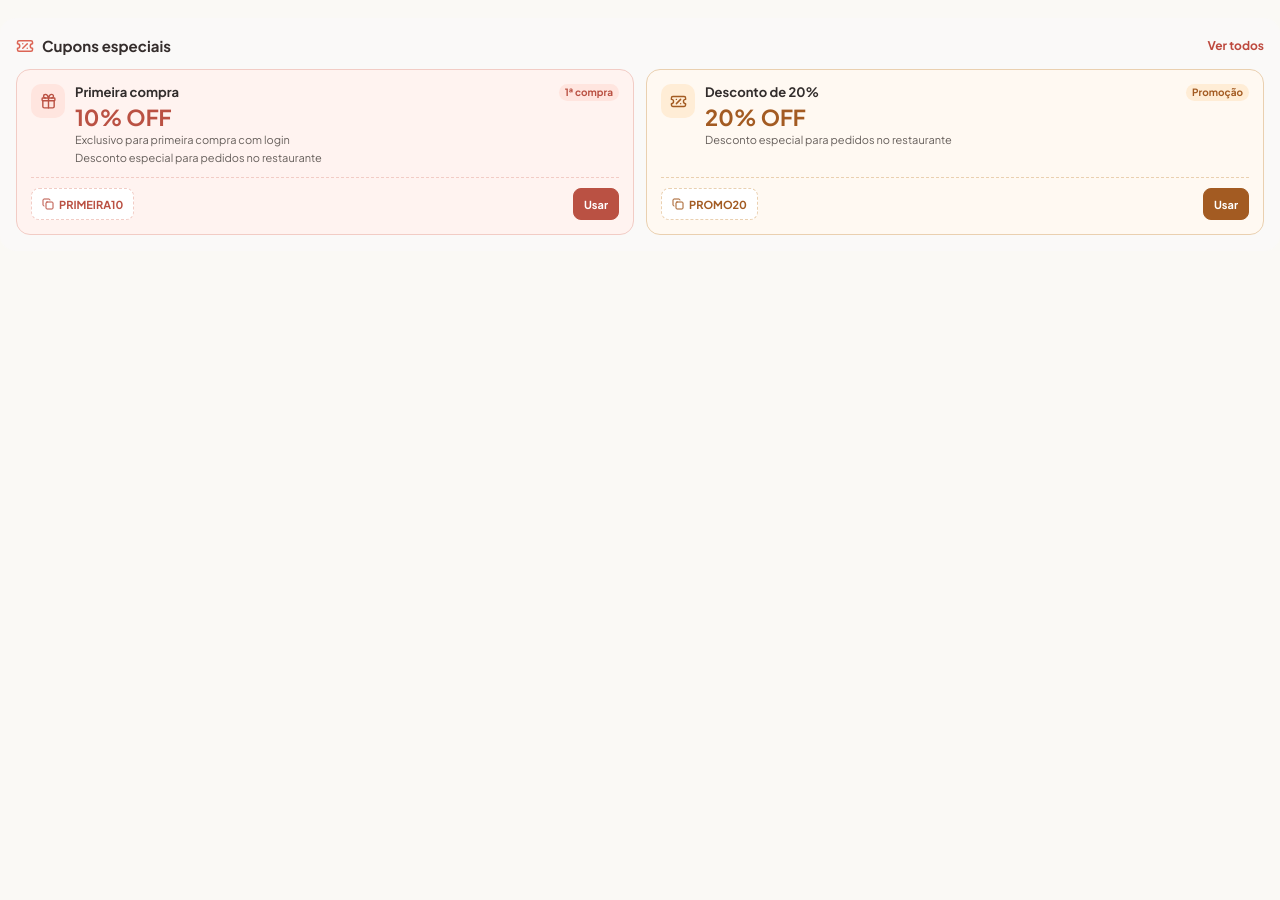
Test: mini tickets promocionais da Home › mantém acesso a todos os cupons pelo diálogo e permite fechá-lo
The width and height of the screenshot is (1280, 900).
What coordinates should you click on to do the following:
click the button "Ver todos"
I would click on:
 (1236, 46)
Its box is left=1208, top=34, right=1264, bottom=57.
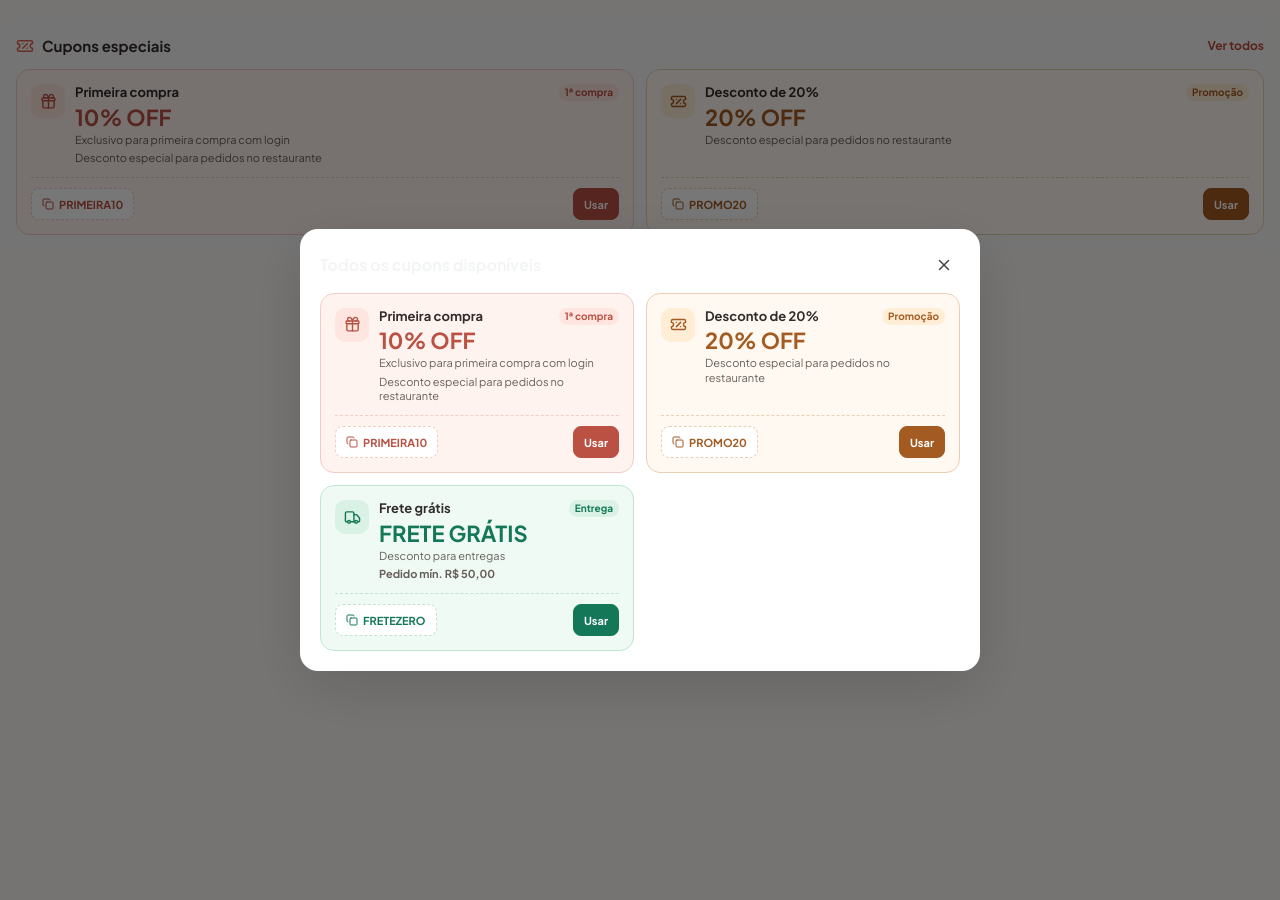
What coordinates should you click on to do the following:
click the button named "Fechar cupons"
I would click on:
 (944, 265)
Its box is left=928, top=249, right=960, bottom=281.
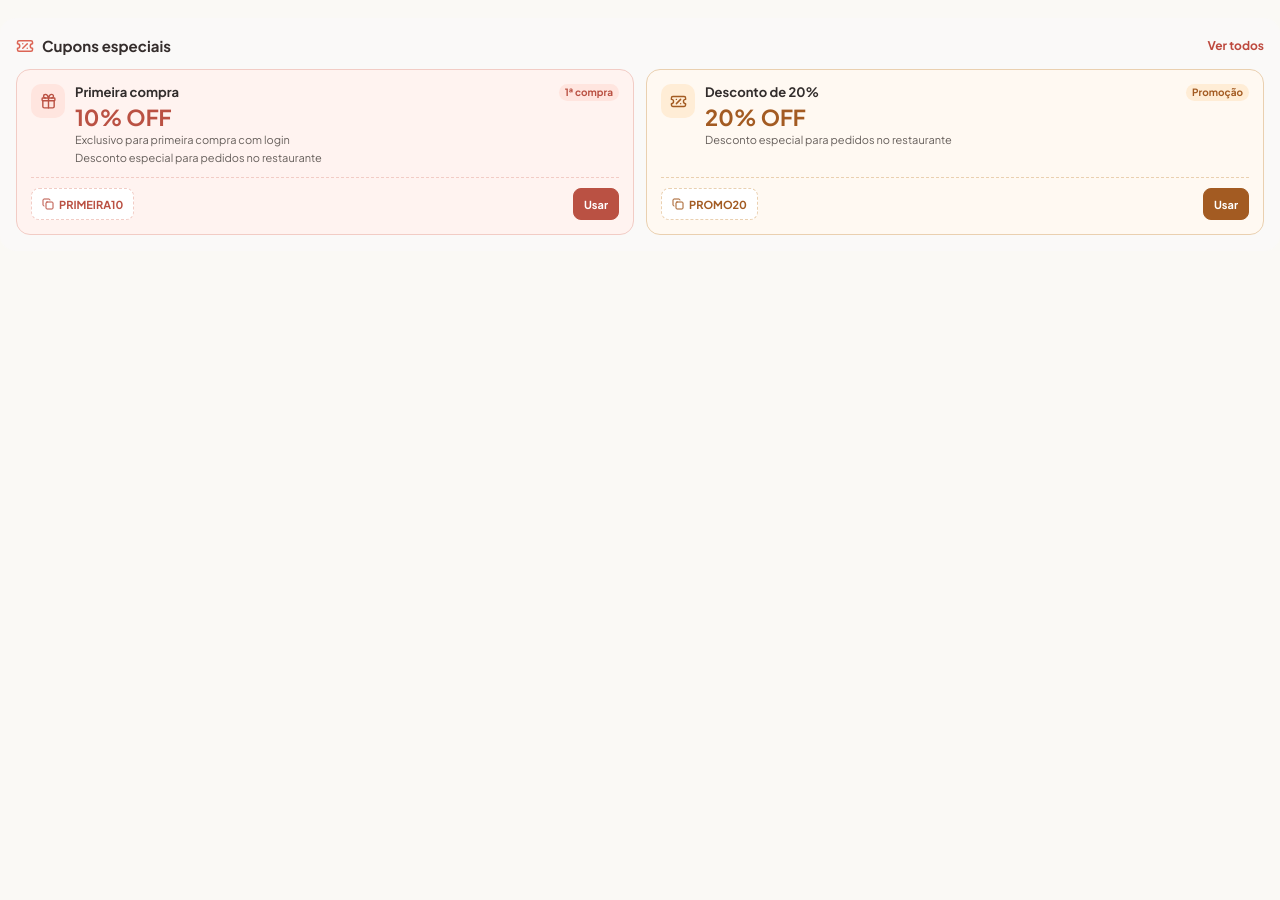
Result: the dialog is gone
